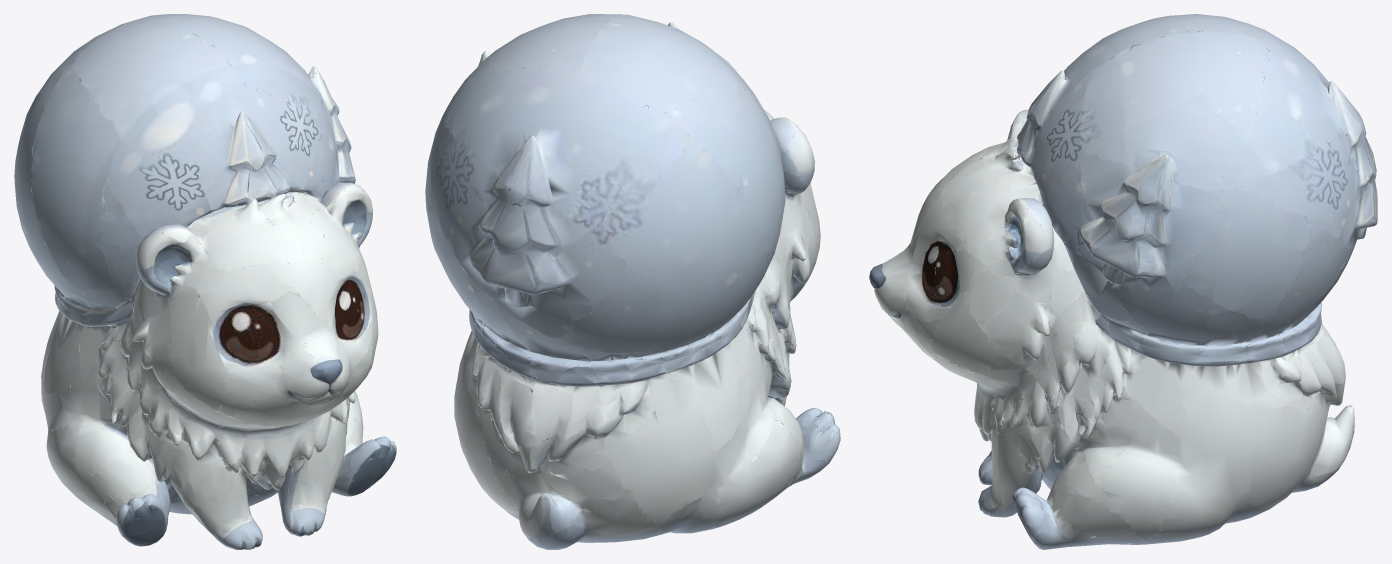
3 views of the same model, side by side, from view 1: azimuth 30°, elevation 25°; view 2: azimuth 150°, elevation 25°; view 3: azimuth 270°, elevation 25° (orthographic). The views are drawn at different scales.
Visible parts, largest first — view 1: Mesh_0; view 2: Mesh_0; view 3: Mesh_0.
Part boxes in pixels (bbox=[...]): Mesh_0: bbox=[14, 14, 396, 549]; Mesh_0: bbox=[425, 14, 840, 549]; Mesh_0: bbox=[869, 14, 1377, 549].
Bounding box in the file's own units: 1.31 × 1.9 × 1.89.
1 material, 1 textured.
